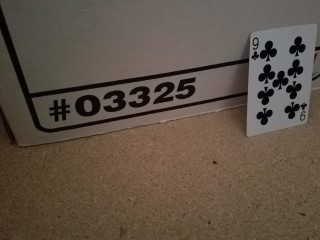NineOfClubs: (245, 24, 317, 137)
